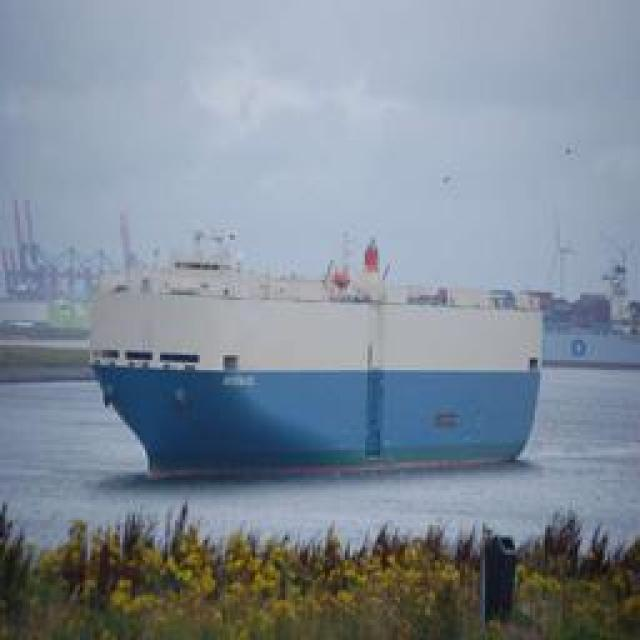CIV_Ship: (88, 234, 552, 476)
